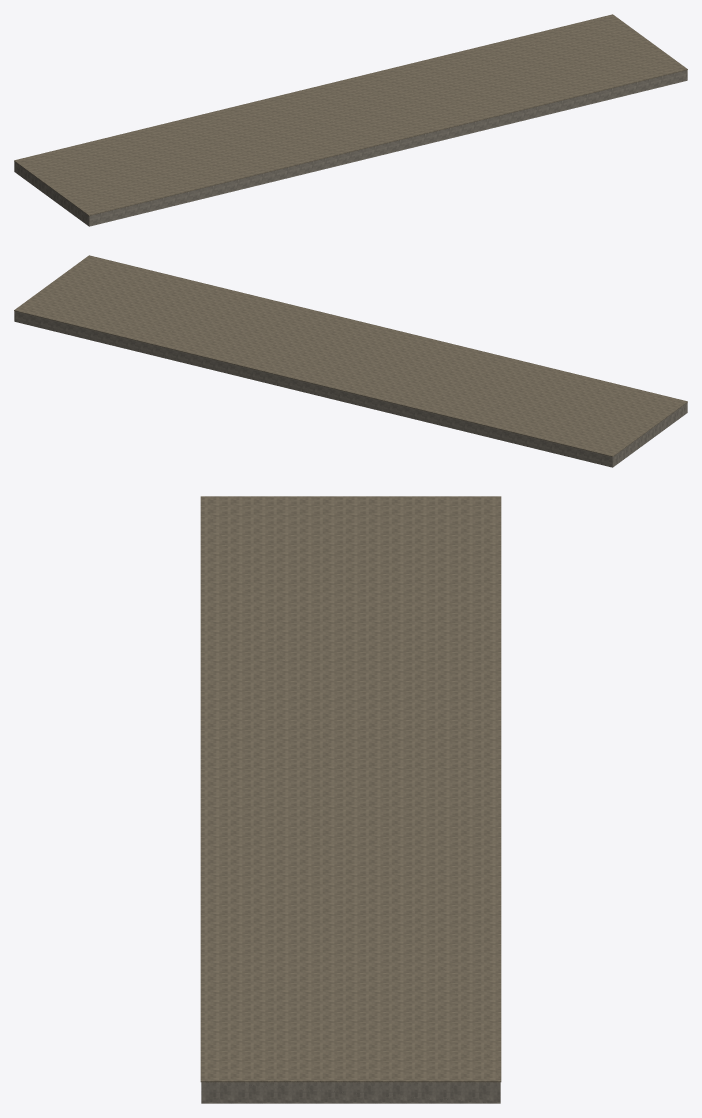
File: SM_Art_Masonry_12000x2600x220.gltf
3 views of the same model, one above another, from view 1: azimuth 30°, elevation 25°; view 2: azimuth 150°, elevation 25°; view 3: azimuth 270°, elevation 25° (orthographic). The views are drawn at different scales.
Parts seen in each view (by area): view 1: SM_Art_Masonry_12000x2600x220; view 2: SM_Art_Masonry_12000x2600x220; view 3: SM_Art_Masonry_12000x2600x220.
Boxes of the visible parts, <box> form: SM_Art_Masonry_12000x2600x220: <box>14,14,687,226</box>; SM_Art_Masonry_12000x2600x220: <box>14,255,687,467</box>; SM_Art_Masonry_12000x2600x220: <box>200,496,501,1103</box>.
Bounding box in the file's own units: 120 × 2.2 × 26.1.
2 materials, 2 textured.
